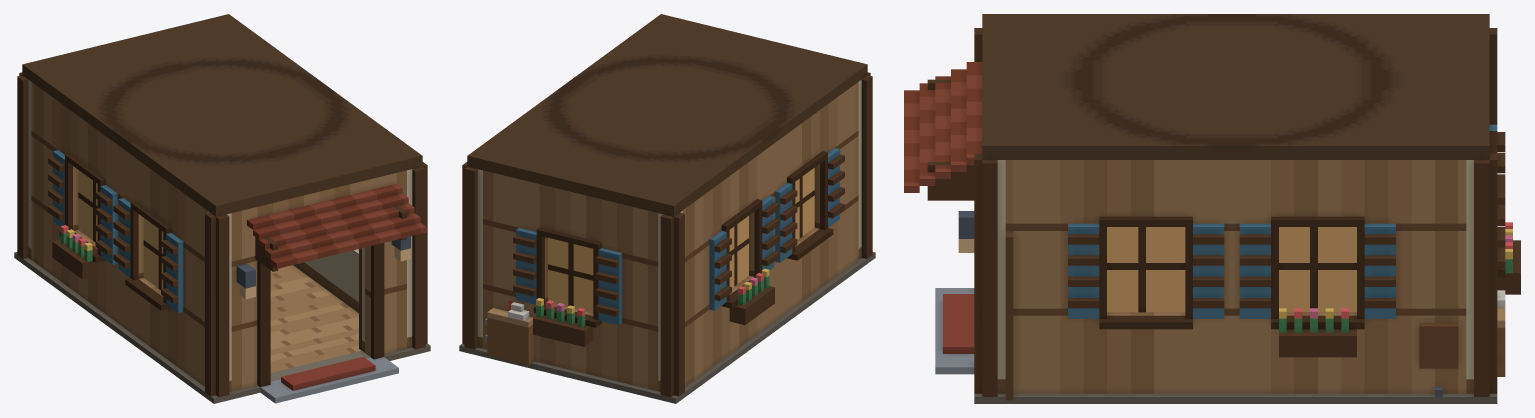
The model's file is lab_e1_l2.glb.
3 views of the same model, side by side, from view 1: azimuth 30°, elevation 25°; view 2: azimuth 150°, elevation 25°; view 3: azimuth 270°, elevation 25° (orthographic). The views are drawn at different scales.
Parts seen in each view (by area): view 1: CutRoof, Base, CutPZ, CutNX, CutNZ; view 2: CutRoof, CutNZ, CutNX, Base, CutPZ; view 3: CutPX, CutRoof, Base, CutPZ, CutNZ.
Boxes of the visible parts, x1,y1,x2,y2 form: CutRoof: [22, 14, 422, 216]; Base: [14, 206, 430, 403]; CutPZ: [205, 162, 427, 348]; CutNX: [31, 82, 207, 337]; CutNZ: [17, 72, 31, 210]; CutRoof: [467, 14, 867, 216]; CutNZ: [462, 162, 684, 348]; CutNX: [682, 82, 858, 337]; Base: [459, 206, 875, 403]; CutPZ: [858, 72, 872, 210]; CutPX: [1005, 160, 1466, 342]; CutRoof: [982, 14, 1489, 159]; Base: [935, 280, 1520, 403]; CutPZ: [904, 28, 1013, 336]; CutNZ: [1466, 28, 1520, 333].
Bounding box in the file's own units: 4.8 × 3.6 × 7.9.
